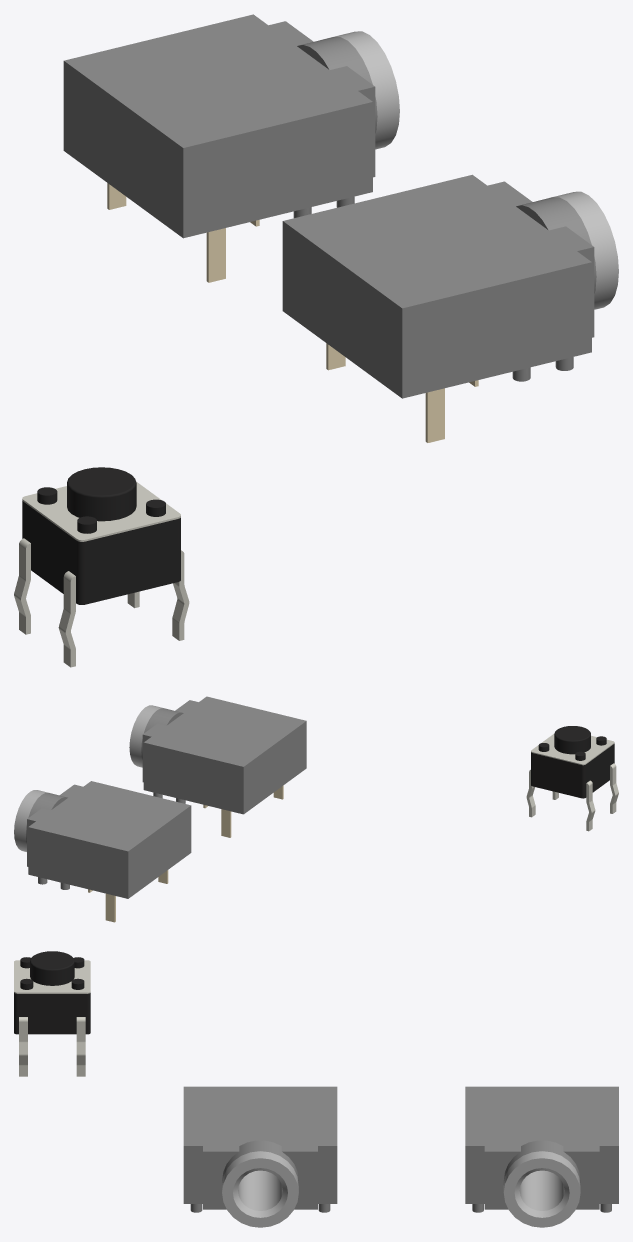
File: panel-controles.glb
3 renders of one model, top to bottom at view 1: azimuth 30°, elevation 25°; view 2: azimuth 150°, elevation 25°; view 3: azimuth 270°, elevation 25°, orthographic. The views are drawn at different scales.
Parts seen in each view (by area): view 1: J2, J1, SW1; view 2: J1, J2, SW1; view 3: J2, J1, SW1.
Part boxes in pixels (left/top/right/bottom): J2: left=282, top=174, right=618, bottom=442; J1: left=63, top=14, right=399, bottom=282; SW1: left=14, top=467, right=189, bottom=667; J1: left=14, top=781, right=191, bottom=922; J2: left=129, top=696, right=306, bottom=837; SW1: left=526, top=726, right=618, bottom=831; J2: left=183, top=1086, right=337, bottom=1227; J1: left=465, top=1086, right=618, bottom=1227; SW1: left=14, top=951, right=90, bottom=1076.
Bounding box in the file's own units: 0.0412 × 0.009 × 0.0472.
